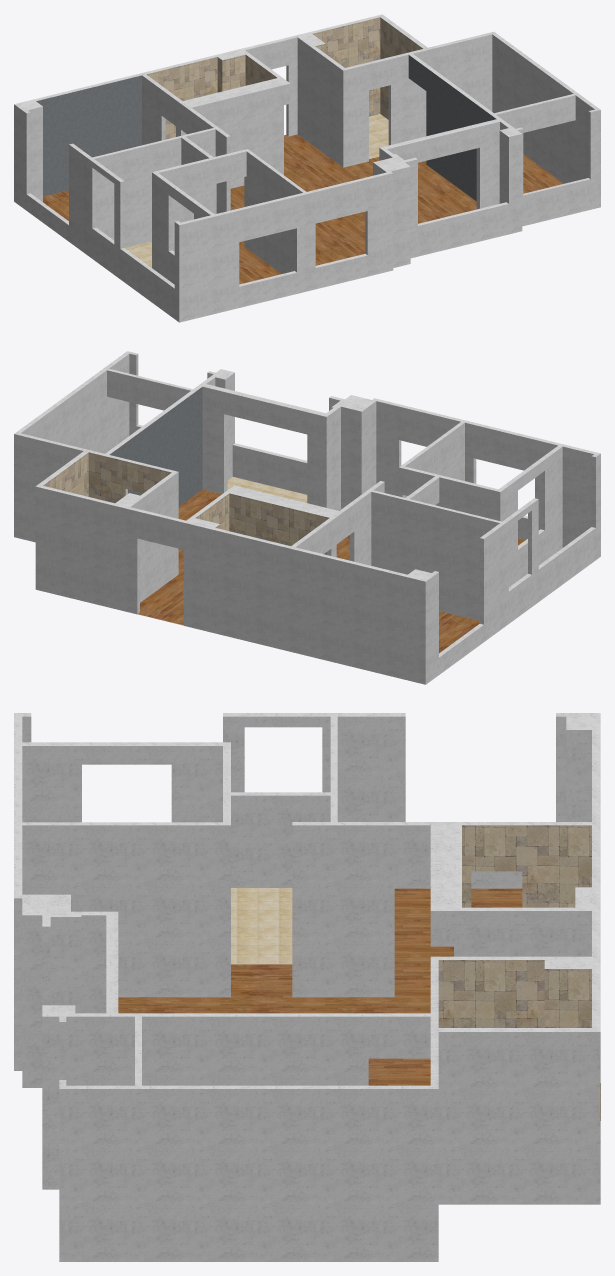
The model's file is design-3D-2018.gltf.
3 views of the same model, one above another, from view 1: azimuth 30°, elevation 25°; view 2: azimuth 150°, elevation 25°; view 3: azimuth 270°, elevation 25° (orthographic). The views are drawn at different scales.
Parts seen in each view (by area): view 1: whole thing, wooden floor, tile; view 2: whole thing, wooden floor, tile; view 3: whole thing, wooden floor, tile.
Part boxes in pixels (bbox=[...]): whole thing: bbox=[14, 14, 600, 322]; wooden floor: bbox=[43, 134, 563, 284]; tile: bbox=[125, 114, 388, 267]; whole thing: bbox=[14, 351, 600, 684]; wooden floor: bbox=[137, 489, 525, 653]; tile: bbox=[227, 476, 307, 502]; whole thing: bbox=[14, 713, 600, 1261]; wooden floor: bbox=[118, 888, 600, 1120]; tile: bbox=[231, 888, 292, 963].
Size of the model in its own units: 12.93 by 2.77 by 8.53.
6 materials, 6 textured.
